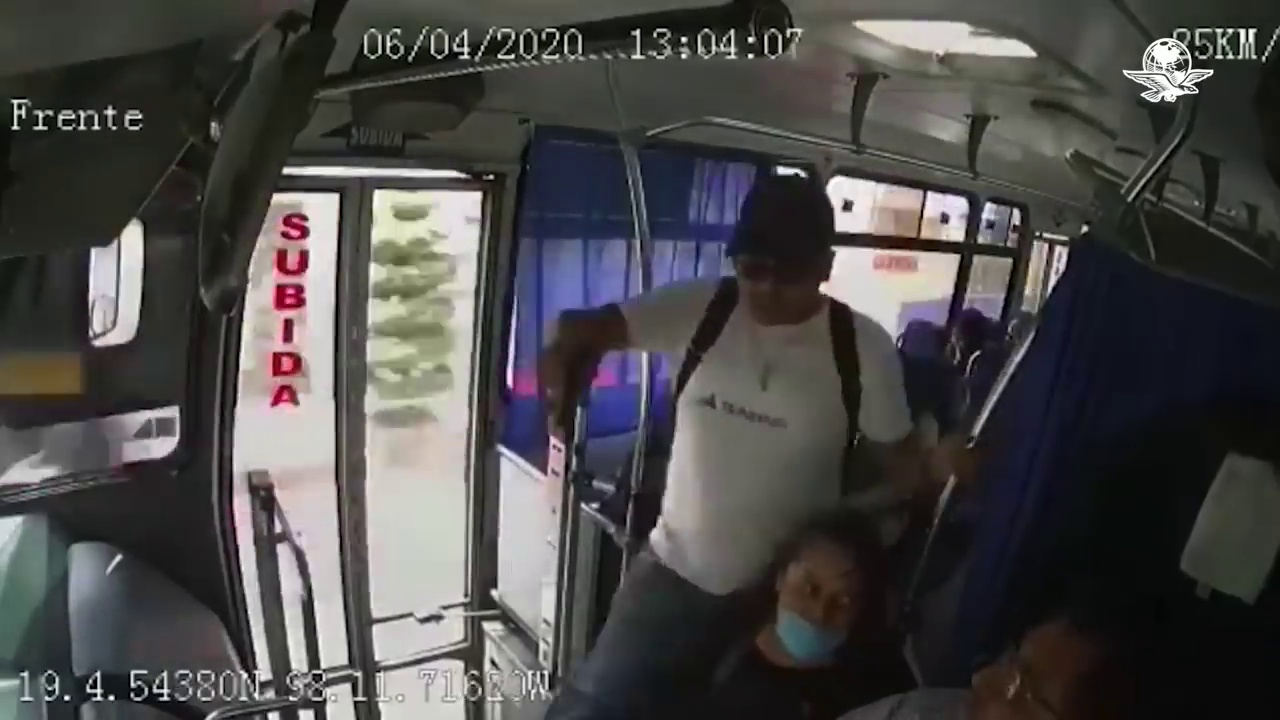pistol: (550, 338, 605, 429)
